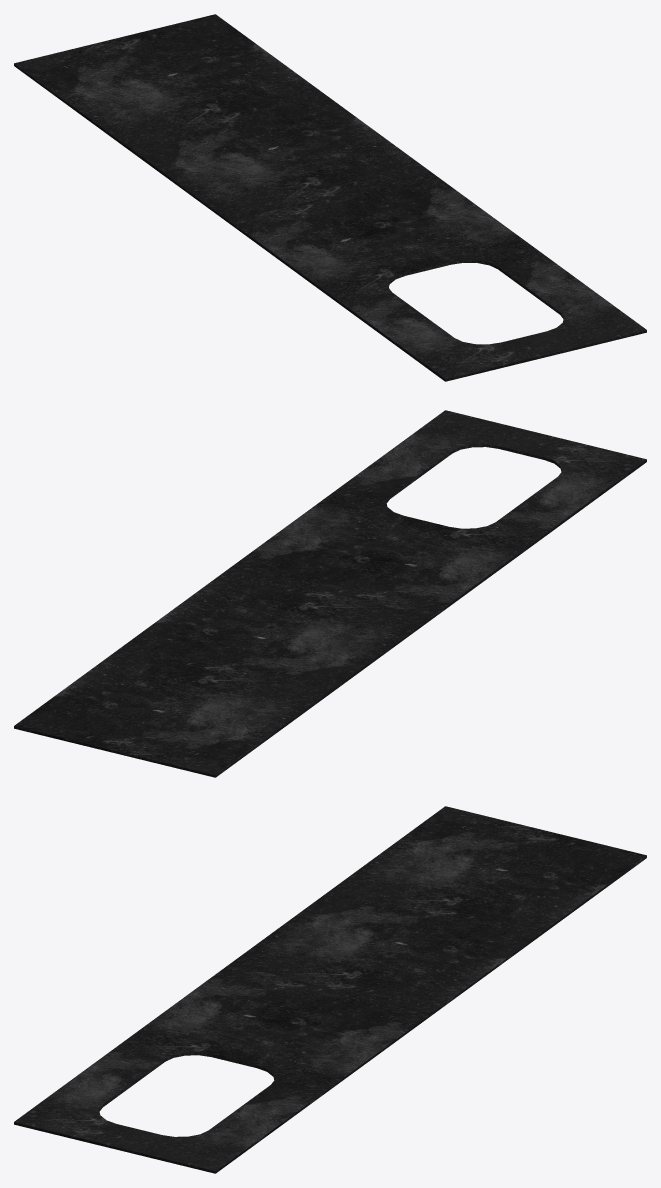
The model's file is SM_Black_Board_Teacher.fbx.
The picture shows the model from 3 angles, top to bottom: view 1: azimuth 30°, elevation 25°; view 2: azimuth 150°, elevation 25°; view 3: azimuth 330°, elevation 25°; orthographic projection.
Visible parts, largest first — view 1: SM_Black_Board_Teacher_LOD0; view 2: SM_Black_Board_Teacher_LOD0; view 3: SM_Black_Board_Teacher_LOD0.
Boxes of the visible parts, <box> form: SM_Black_Board_Teacher_LOD0: <box>14,14,646,381</box>; SM_Black_Board_Teacher_LOD0: <box>14,410,646,777</box>; SM_Black_Board_Teacher_LOD0: <box>14,806,646,1173</box>.
Size of the model in its own units: 81.4 by 301 by 1.13.
Materials: 1 (1 with a texture image).
